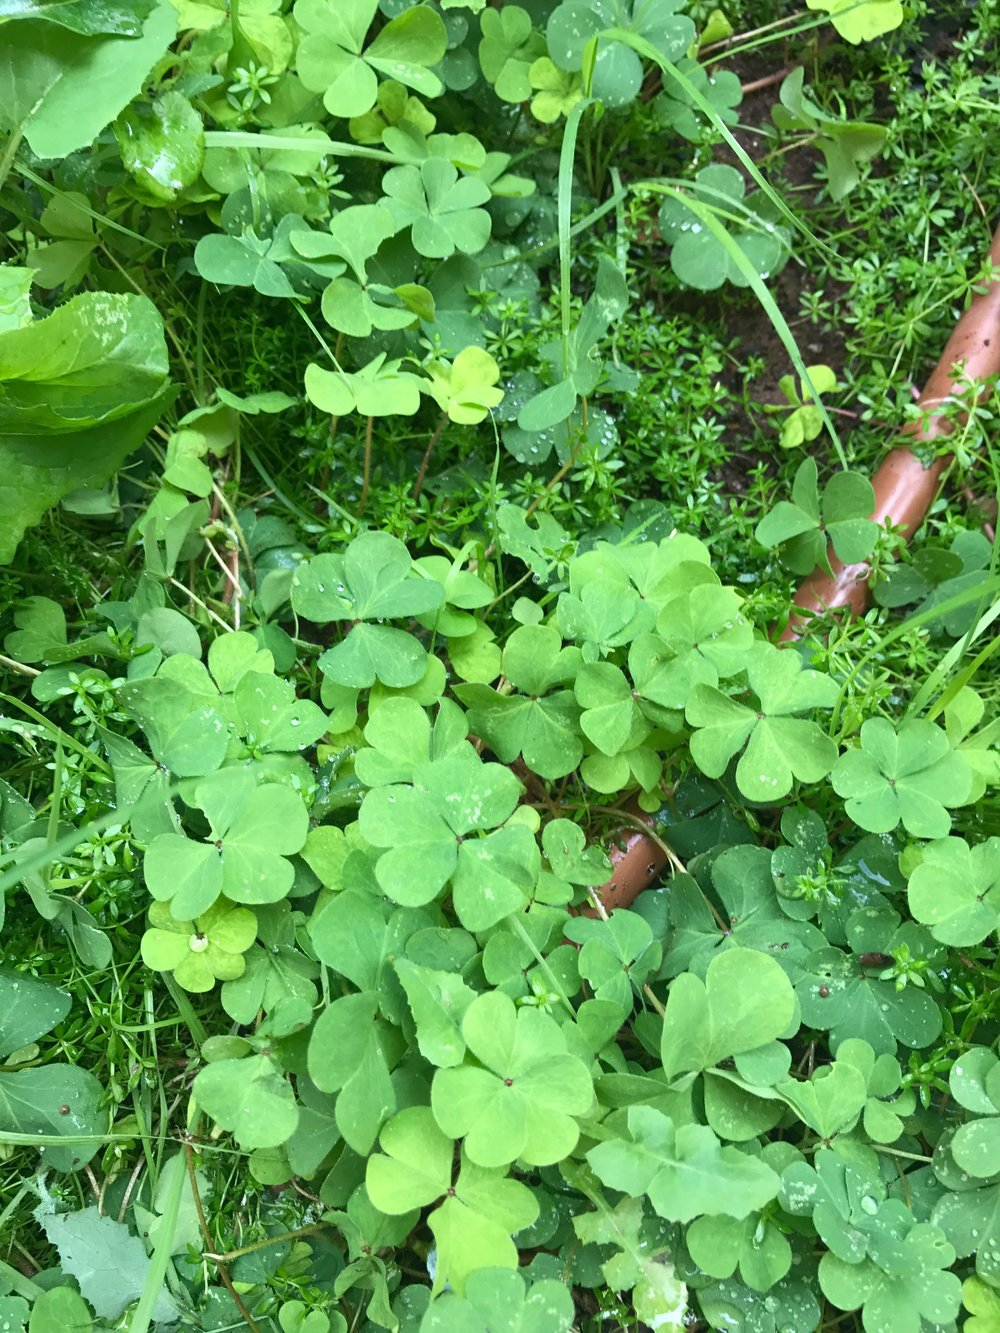oxalis: (169, 512, 967, 1333)
